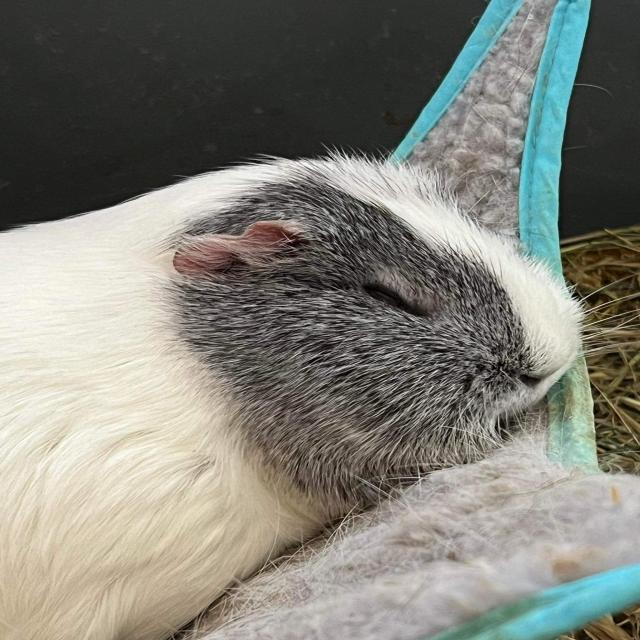guinea pig: (5, 144, 589, 638)
